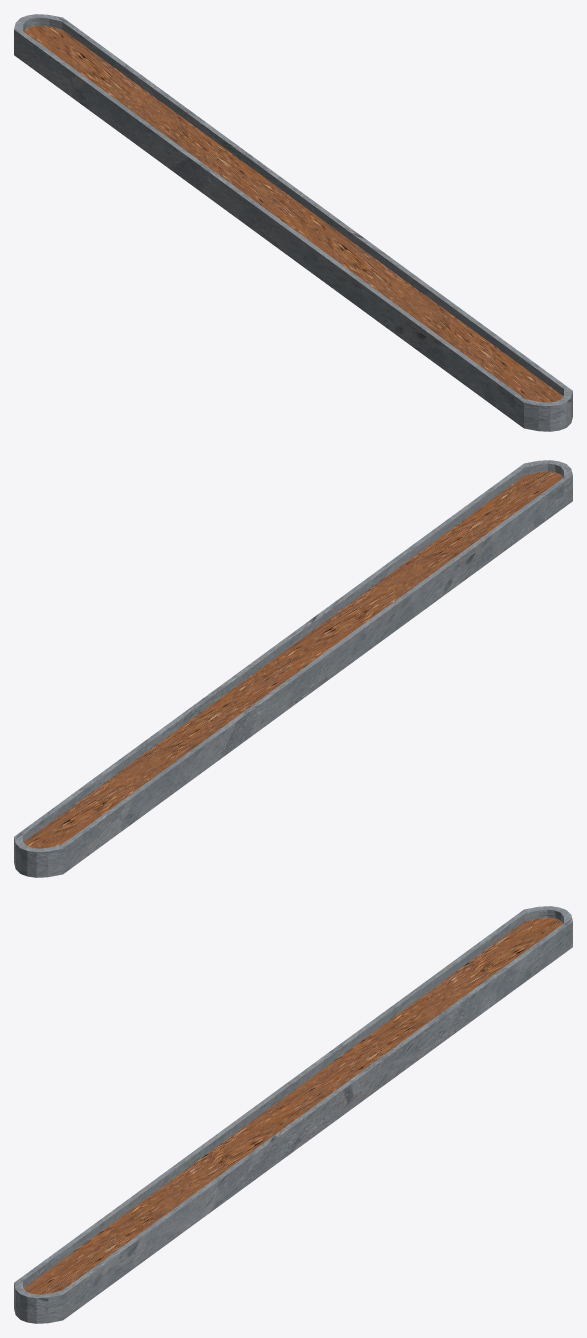
Rendered from Plant Holder.obj.
3 renders of one model, top to bottom at view 1: azimuth 30°, elevation 25°; view 2: azimuth 150°, elevation 25°; view 3: azimuth 330°, elevation 25°, orthographic.
Visible parts, largest first — view 1: Plant_Holder_Plane.162; view 2: Plant_Holder_Plane.162; view 3: Plant_Holder_Plane.162.
Part boxes in pixels (<box>): Plant_Holder_Plane.162: <box>14,14,572,431</box>; Plant_Holder_Plane.162: <box>14,460,572,877</box>; Plant_Holder_Plane.162: <box>14,906,572,1323</box>.
Bounding box in the file's own units: 2 × 1 × 37.56.
1 material, 1 textured.
